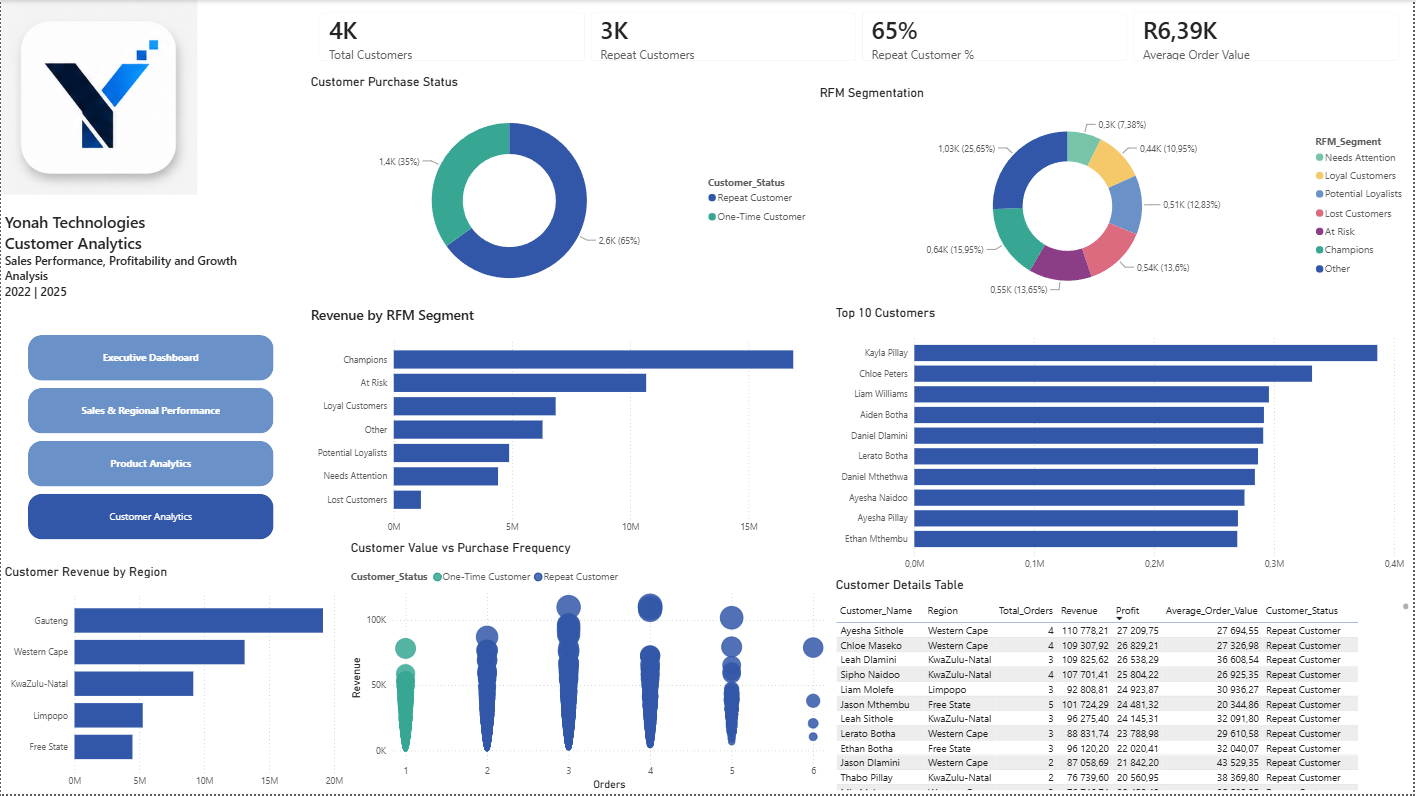

The dashboard page shown, as its layout file describes it:
{"tool":"powerbi","page":{"name":"Customer Analytics","canvas":[1920,1080],"ordinal":4},"visuals":[{"type":"image","box":[0,0,266.6,265.2],"z":0},{"type":"textbox","box":[0,265.2,334.6,149.6],"z":1000},{"type":"cardVisual","fields":{"Data":["_Yonah Measures.Total Customers","_Yonah Measures.Repeat Customers","_Yonah Measures.Repeat Customer %","_Yonah Measures.Average Order Value"]},"box":[416.7,0,1503.3,100.8],"z":2000},{"type":"clusteredBarChart","title":"Revenue by RFM Segment","fields":{"Category":["gold CustomerRFM.RFM_Segment"],"Y":["Sum(gold CustomerRFM.Monetary)"]},"box":[416.2,414.9,714.1,319.6],"z":3000},{"type":"clusteredBarChart","title":"Top 10 Customers","fields":{"Category":["gold CustomerAnalytics.Customer_Name"],"Y":["Sum(gold CustomerAnalytics.Revenue)"]},"box":[1130.3,414.9,783.5,370],"z":4000},{"type":"donutChart","title":"Customer Purchase Status","fields":{"Category":["gold CustomerAnalytics.Customer_Status"],"Y":["CountNonNull(gold CustomerAnalytics.CustomerKey)"]},"box":[416.2,100.7,692.3,314.2],"z":5000},{"type":"donutChart","title":"RFM Segmentation","fields":{"Category":["gold CustomerRFM.RFM_Segment"],"Y":["CountNonNull(gold CustomerRFM.Customer_ID)"]},"box":[1109,115.6,811,299.5],"z":6000},{"type":"scatterChart","title":"Customer Value vs Purchase Frequency","fields":{"X":["Sum(gold CustomerAnalytics.Total_Orders)"],"Y":["Sum(gold CustomerAnalytics.Revenue)"],"Size":["Sum(gold CustomerAnalytics.Profit)"],"Series":["gold CustomerAnalytics.Customer_Status"],"Category":["gold CustomerAnalytics.Customer_ID"]},"box":[470,733.9,659.8,345.5],"z":7000},{"type":"barChart","title":"Customer Revenue by Region","fields":{"Category":["gold CustomerAnalytics.Region"],"Y":["Sum(gold CustomerAnalytics.Revenue)"]},"box":[0,766.5,470,312.8],"z":8000},{"type":"tableEx","title":"Customer Details Table","fields":{"Values":["gold CustomerAnalytics.Customer_Name","gold CustomerAnalytics.Region","Sum(gold CustomerAnalytics.Total_Orders)","Sum(gold CustomerAnalytics.Revenue)","Sum(gold CustomerAnalytics.Profit)","gold CustomerAnalytics.Average_Order_Value","gold CustomerAnalytics.Customer_Status"]},"box":[1129.8,784.3,790.2,295],"z":9000},{"type":"pageNavigator","box":[36.5,455.2,334.1,280.1],"z":10000}]}

Visuals, with their boxes in screenshot pixels (x1, y1, x2, y2), scaled from the page's 1920x1080 canvas onto the 1416x796 screenshot:
image: [left=0, top=0, right=197, bottom=195]
textbox: [left=0, top=195, right=247, bottom=306]
cardVisual - _Yonah Measures.Total Customers x _Yonah Measures.Repeat Customers: [left=307, top=0, right=1415, bottom=74]
"Revenue by RFM Segment" clusteredBarChart: [left=307, top=306, right=834, bottom=541]
"Top 10 Customers" clusteredBarChart: [left=834, top=306, right=1411, bottom=579]
"Customer Purchase Status" donutChart: [left=307, top=74, right=818, bottom=306]
"RFM Segmentation" donutChart: [left=818, top=85, right=1415, bottom=306]
"Customer Value vs Purchase Frequency" scatterChart: [left=347, top=541, right=833, bottom=795]
"Customer Revenue by Region" barChart: [left=0, top=565, right=347, bottom=795]
"Customer Details Table" tableEx: [left=833, top=578, right=1415, bottom=795]
pageNavigator: [left=27, top=335, right=273, bottom=542]
